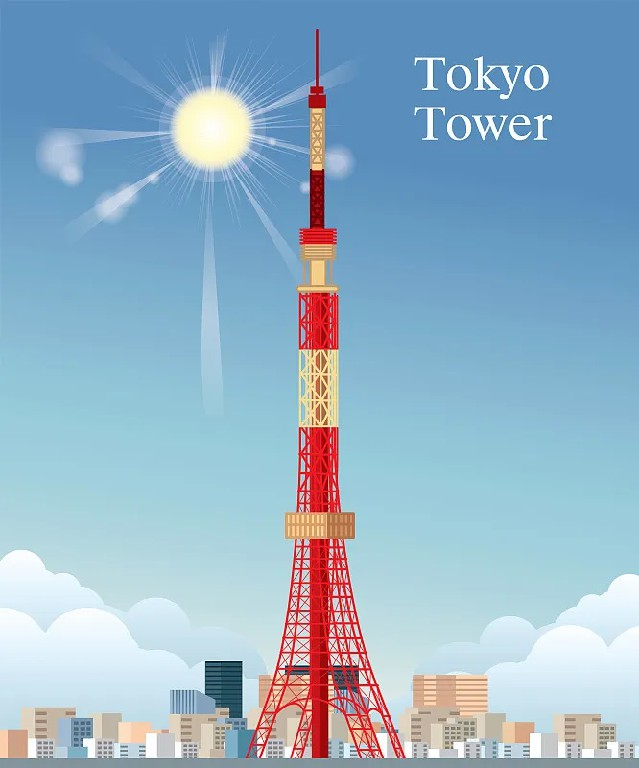Tokyo: (244, 26, 404, 757)
